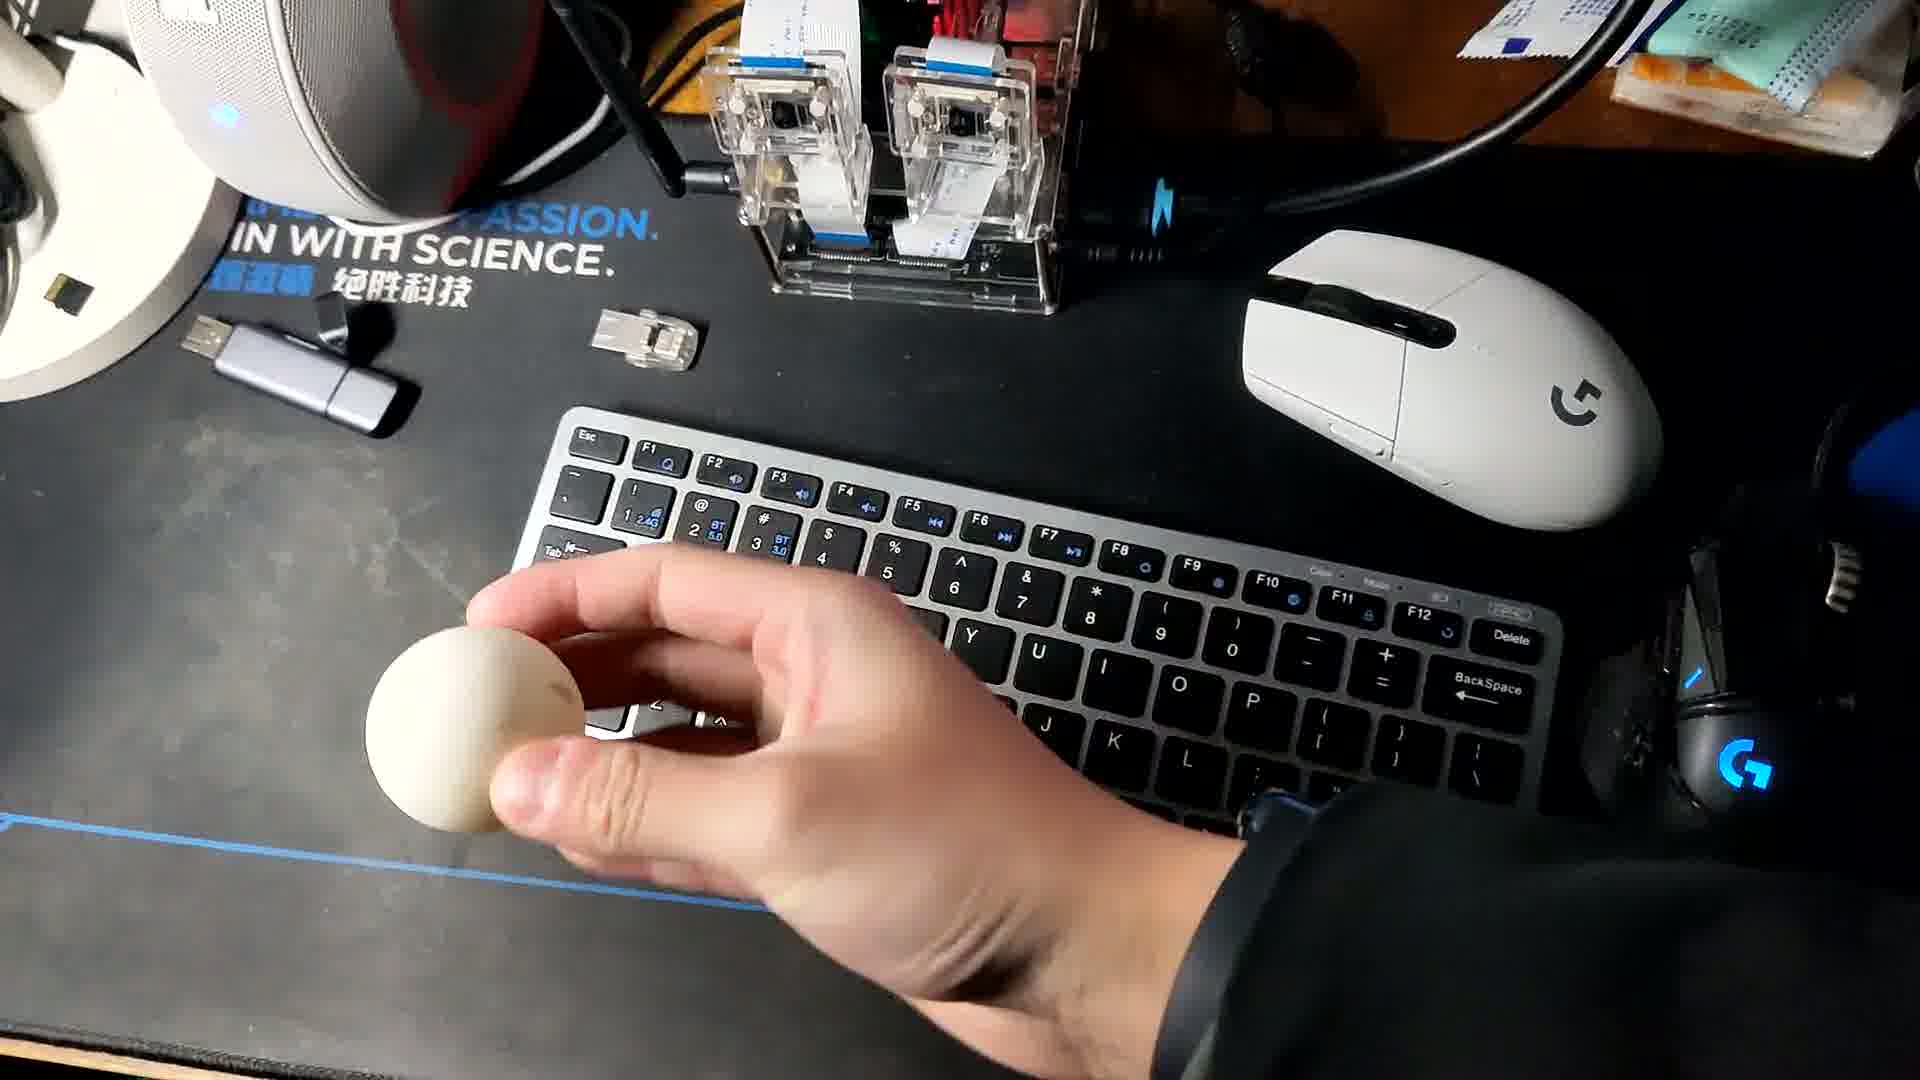Ball: (361, 626, 588, 841)
